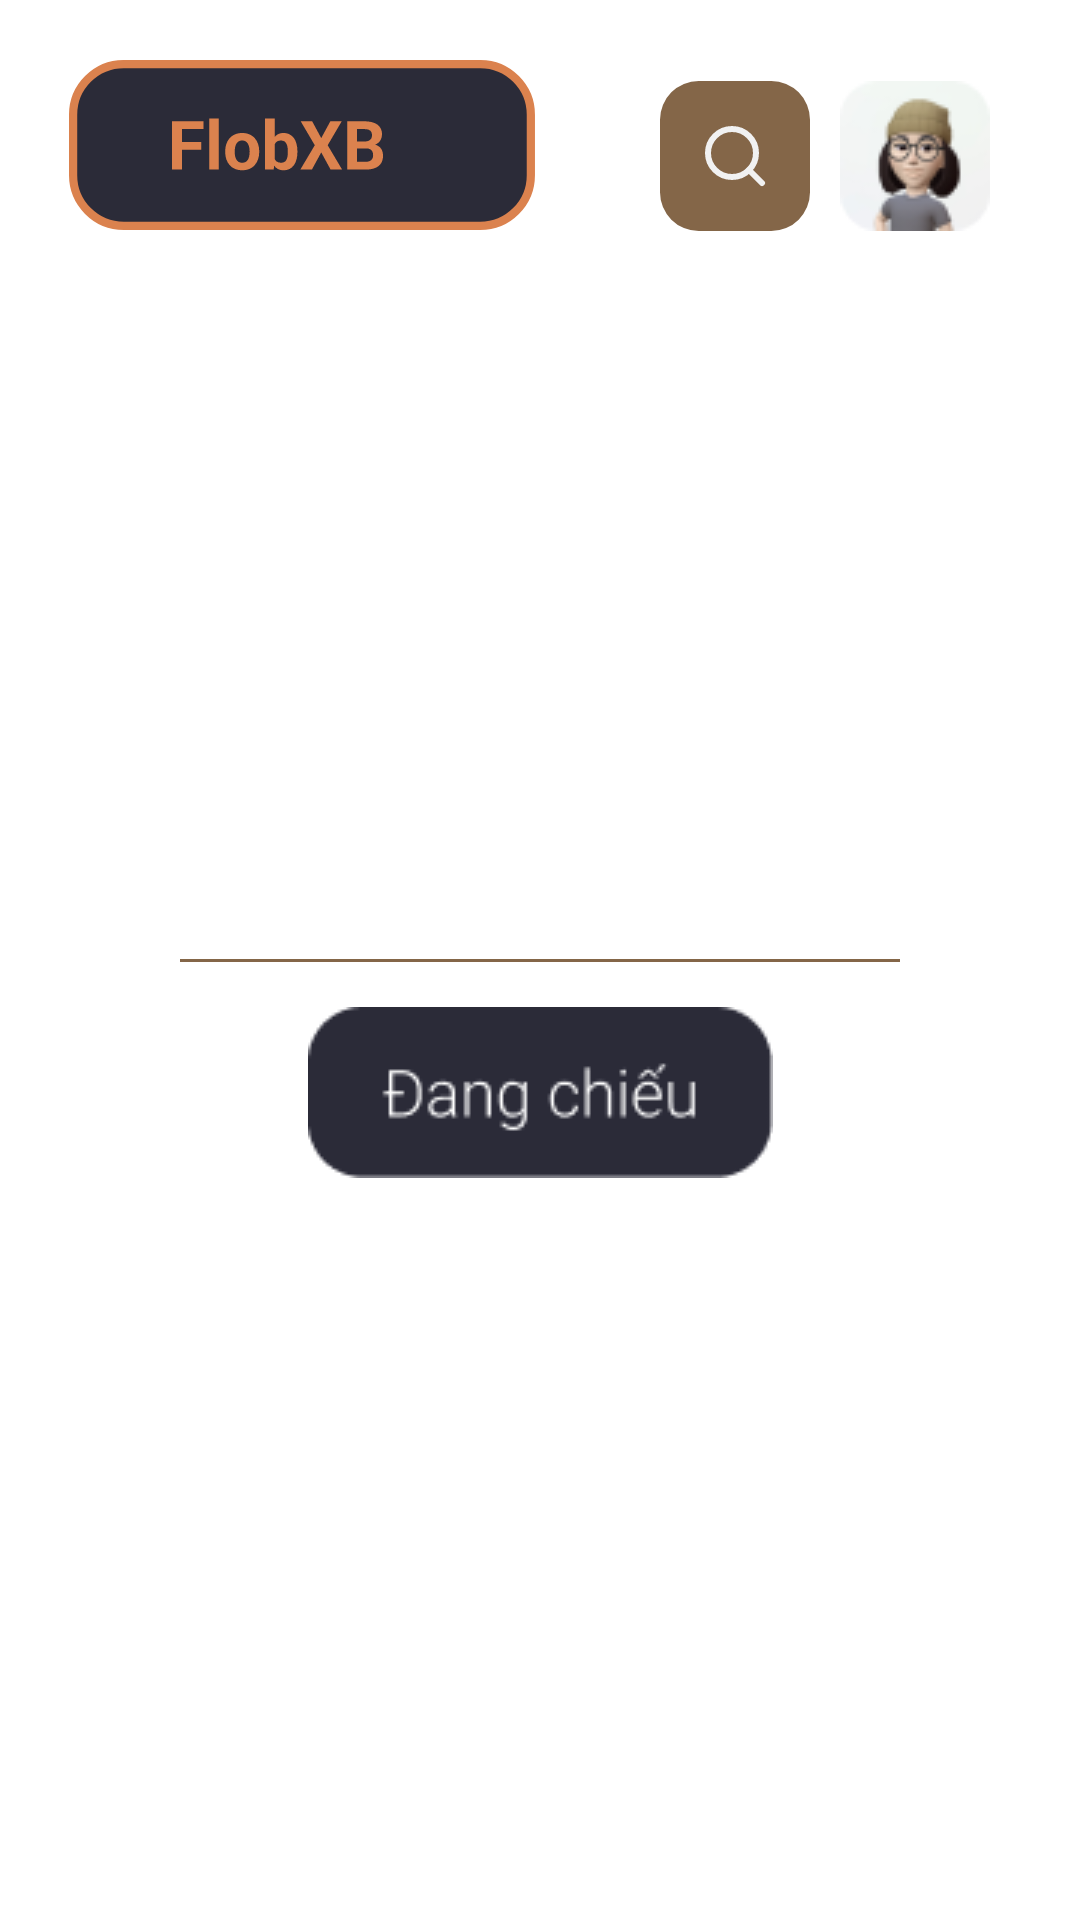

Icons on this 1080 × 1920 Android screen, each with its box as rect(x1, y1, x2, y2):
search: rect(660, 81, 810, 231)
